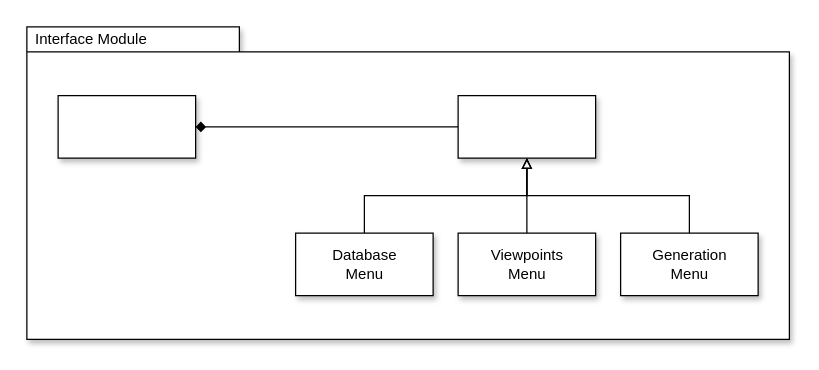
Some shapes in this 819 by 370 pixel diagram are drawn without their labels. Here are the shapes that lost their labels. From the top down, the centre of each, then its label:
(127,128): MainWindow
(527,128): Menu
